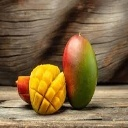mango: (62, 34, 97, 112)
